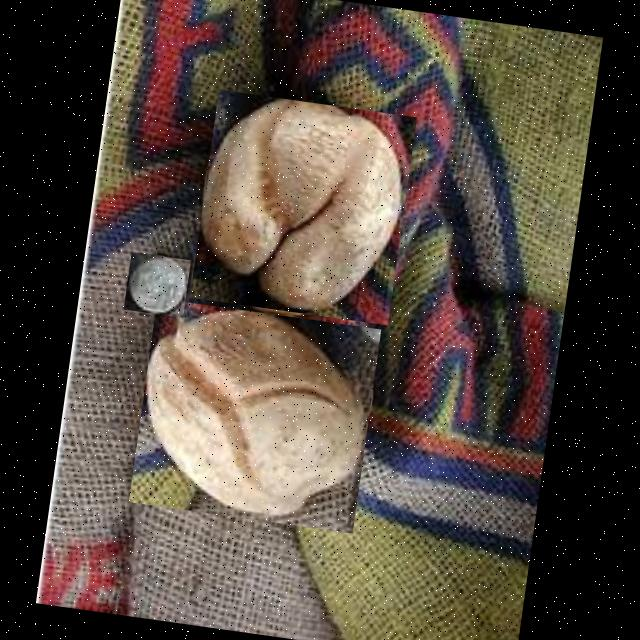Damaged potato: (129, 298, 381, 532), (190, 88, 417, 324), (124, 251, 191, 317)
